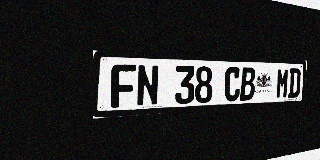3: (175, 65, 195, 104)
8: (194, 66, 213, 103)
B: (240, 67, 256, 101)
C: (224, 67, 241, 102)
D: (288, 68, 301, 98)
F: (111, 64, 136, 108)
M: (276, 68, 289, 99)
N: (136, 65, 159, 107)
